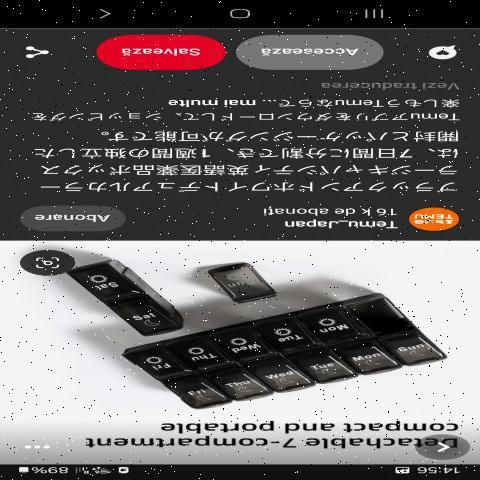PillBox: (108, 285, 463, 424)
